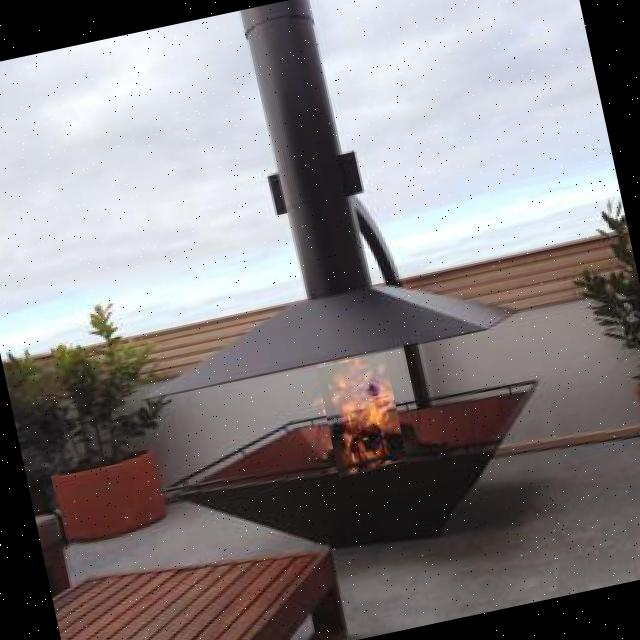fire: (316, 353, 408, 478)
